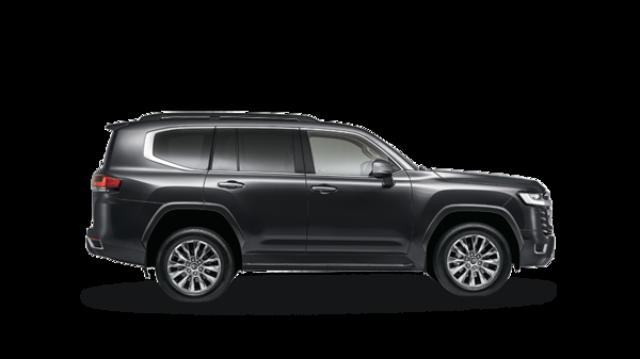toyota: (34, 112, 556, 304)
